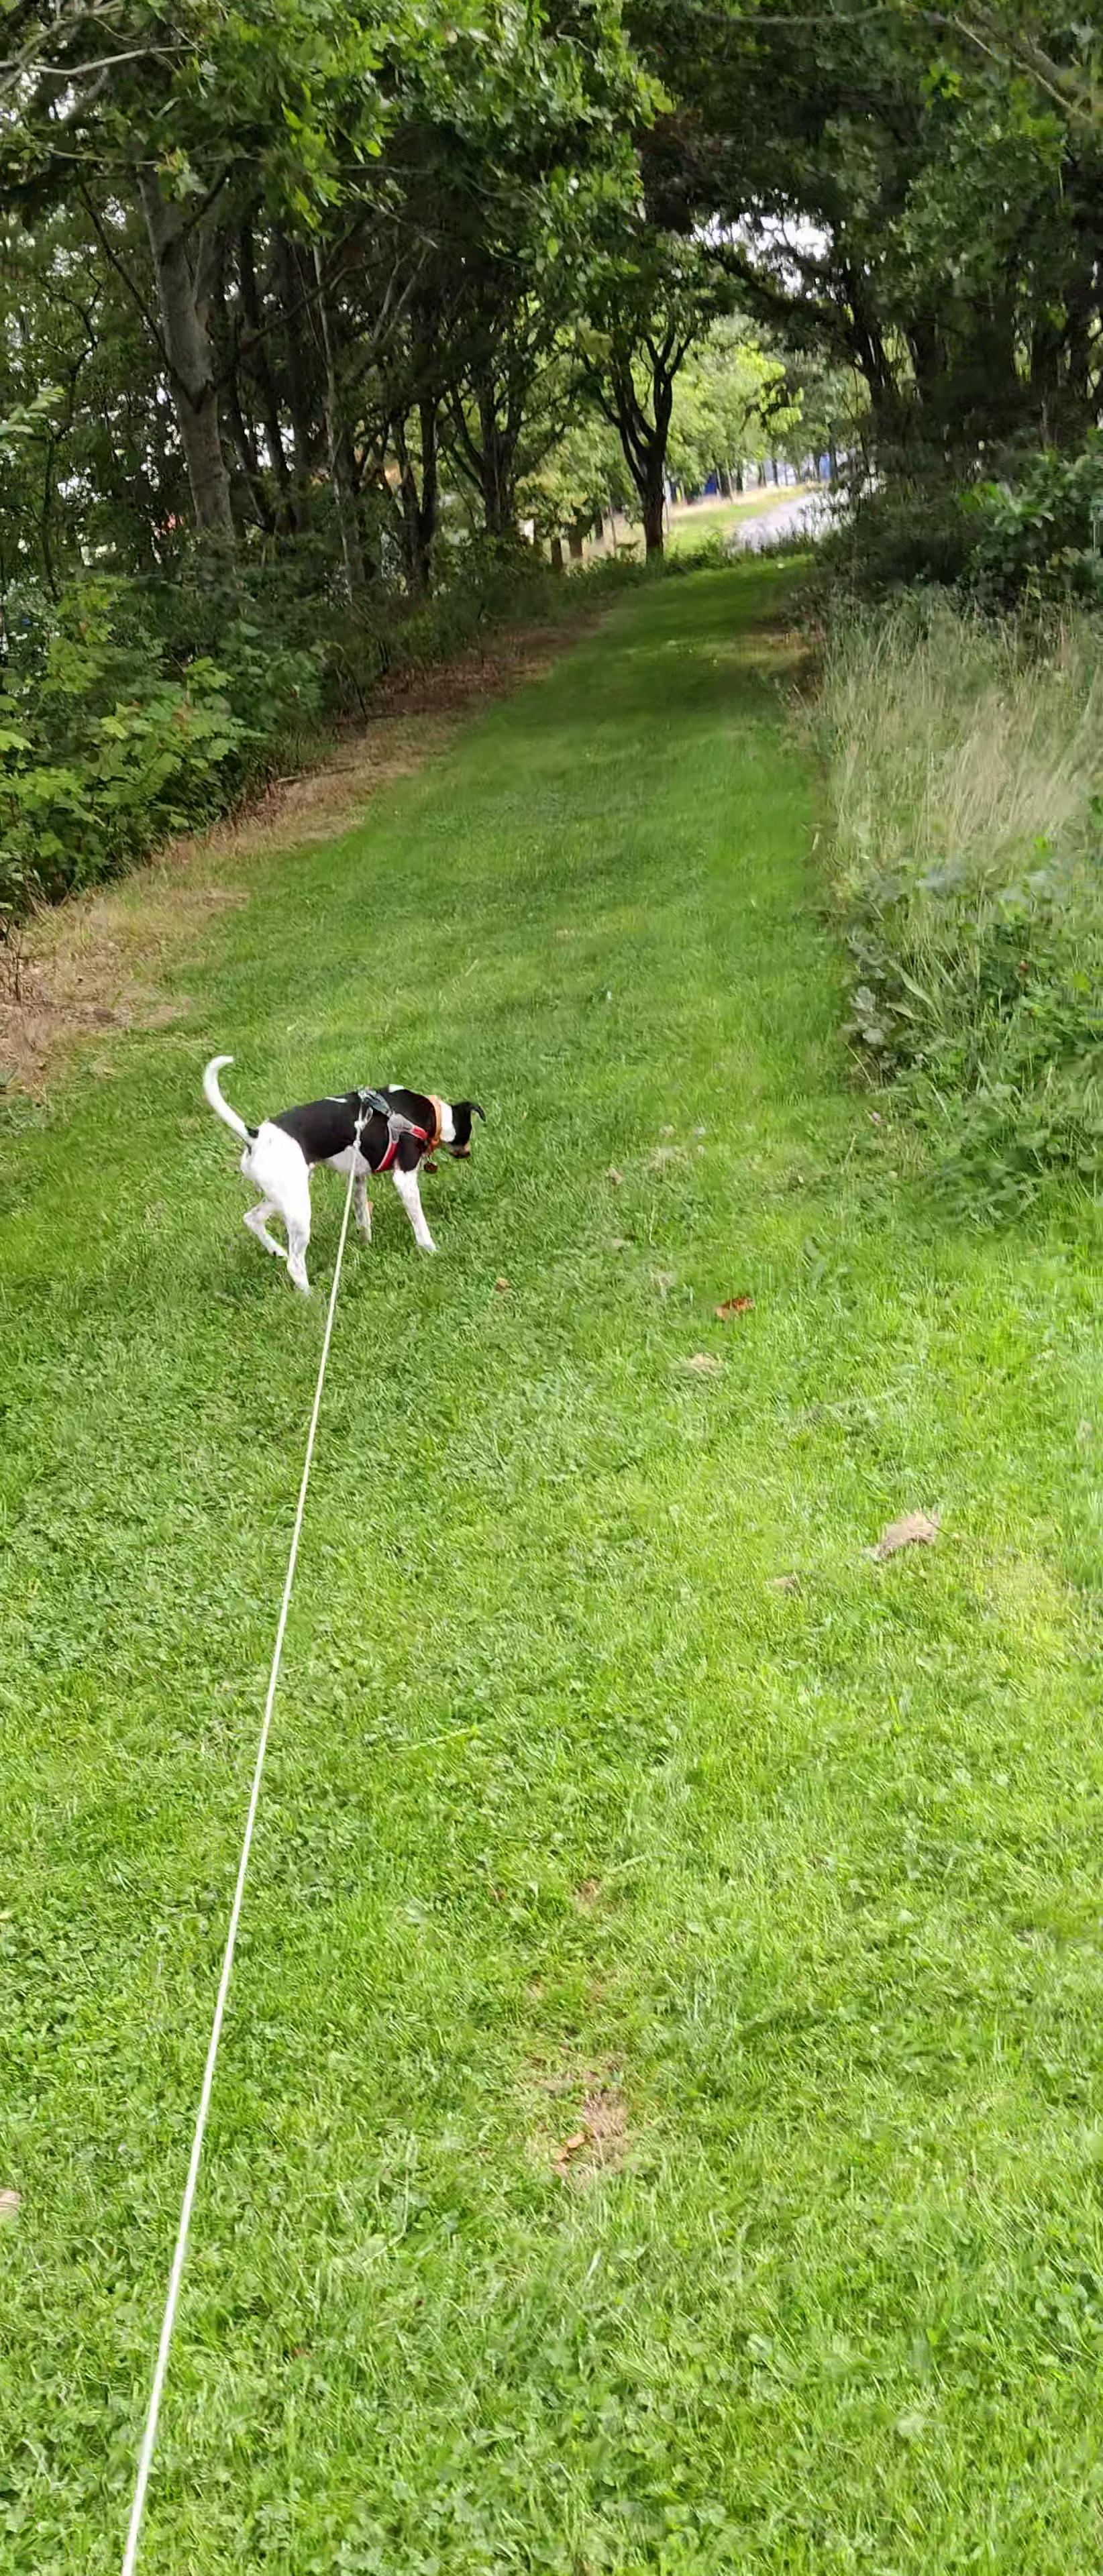Dog: (191, 1040, 496, 1298)
